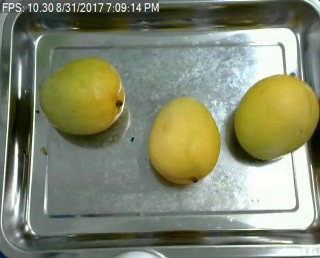Mango: (232, 74, 320, 158), (40, 58, 128, 134), (148, 97, 221, 183)
